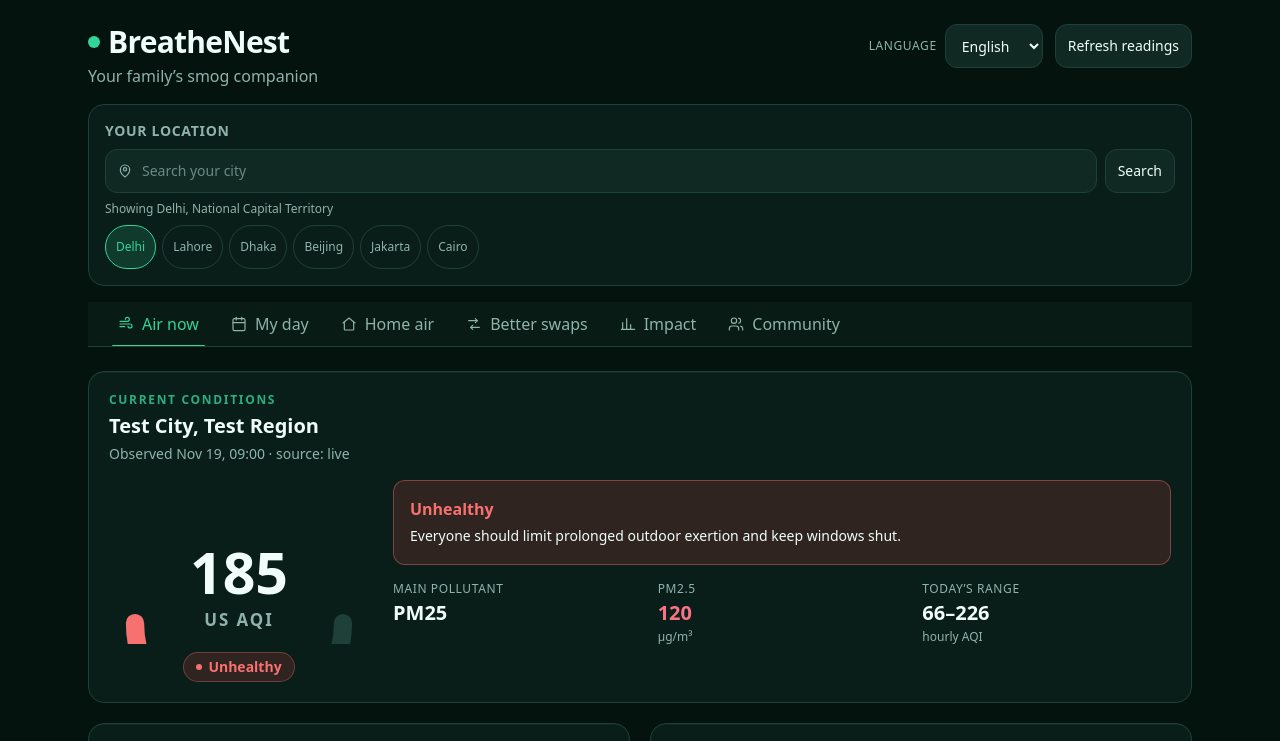
community tab › lists pledges and annualises the collective effect
Click the tab "Community" at {"x": 784, "y": 324}, box [714,302,854,346]
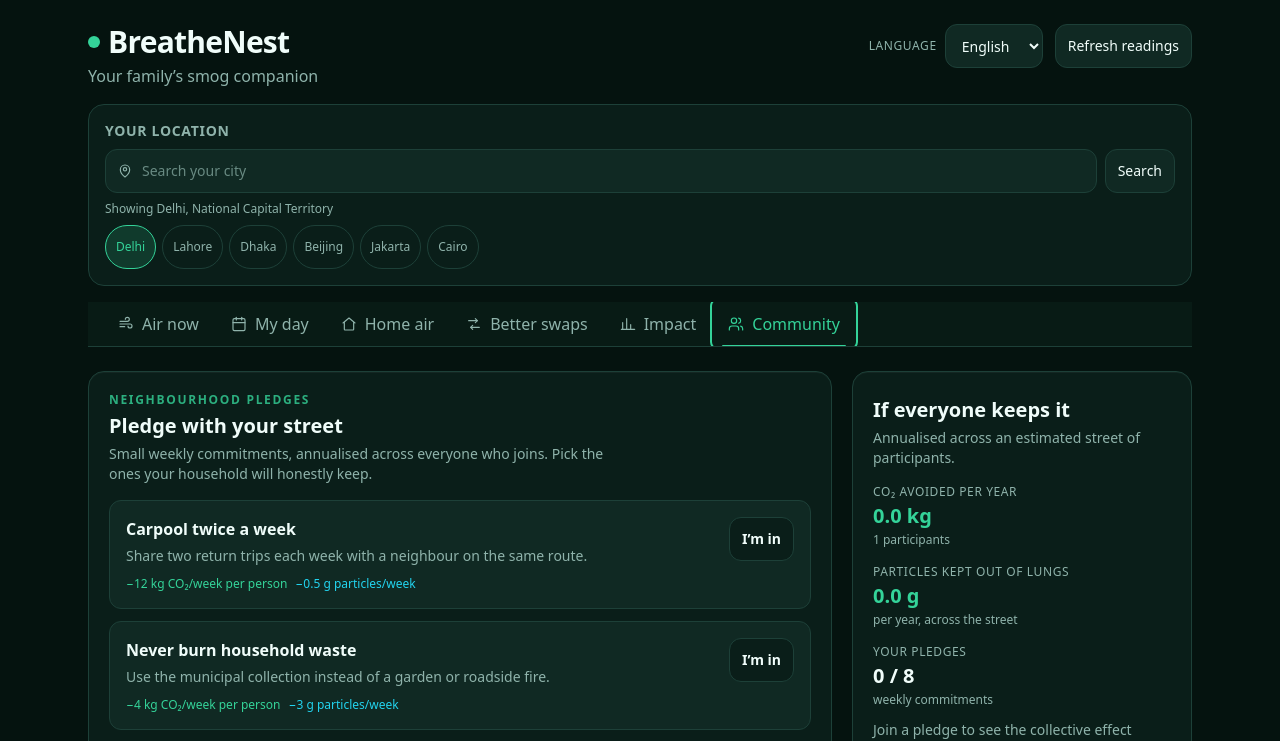
Result: the heading "Pledge with your street" is shown at [109,412,343,439]
Click the button "I’m in" in the row of "Carpool twice a week" at {"x": 762, "y": 539}, box [729,517,794,561]
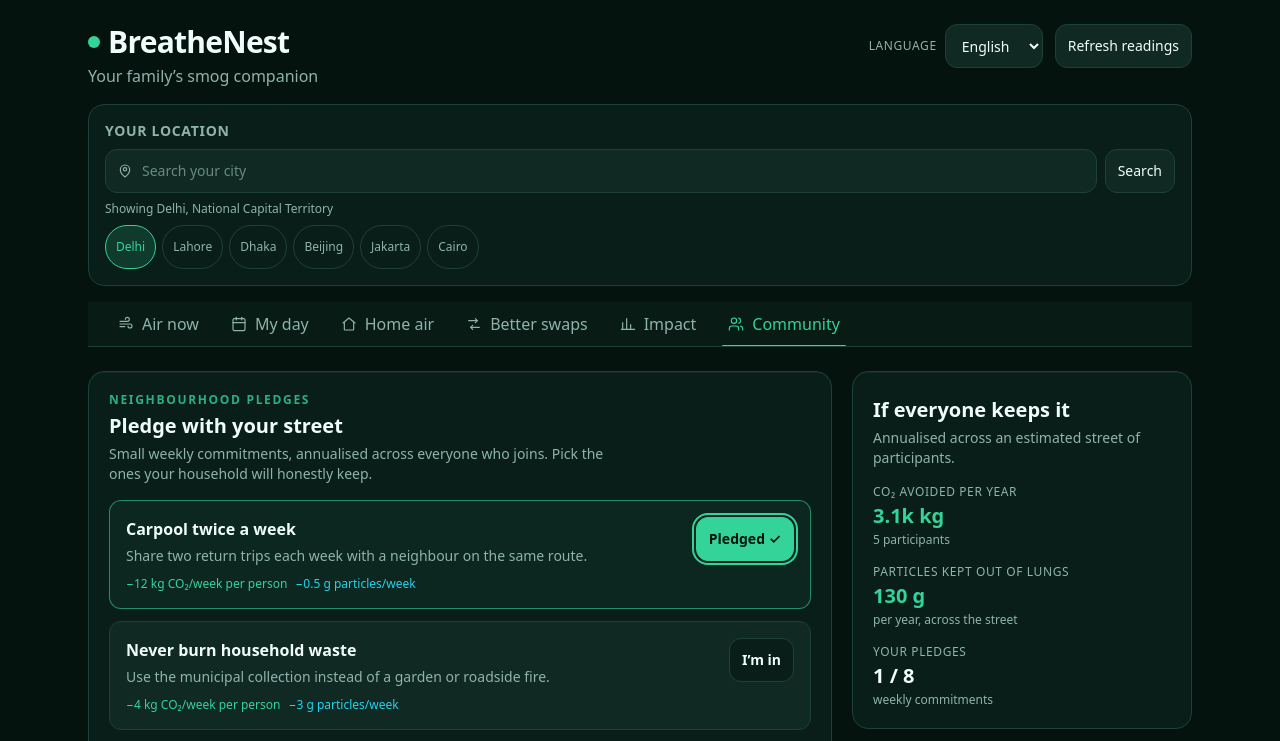
Result: the text "CO₂ avoided per year" is shown at [873,483,1017,500]
Result: the text "1 / 8" is shown at [873,662,914,689]
